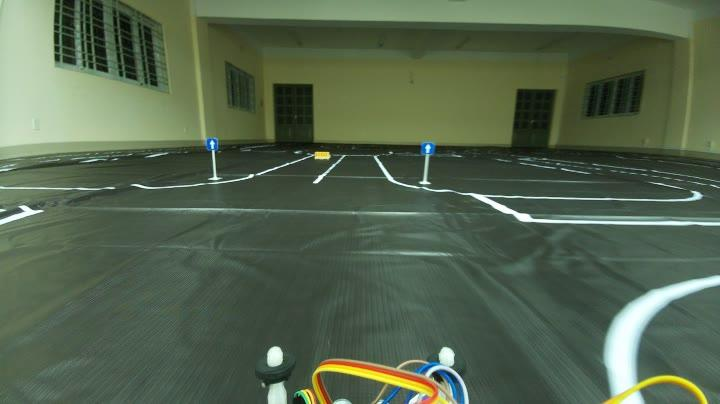onewayroad: (420, 139, 437, 159), (206, 134, 223, 150)
roadblock: (312, 148, 334, 160)
